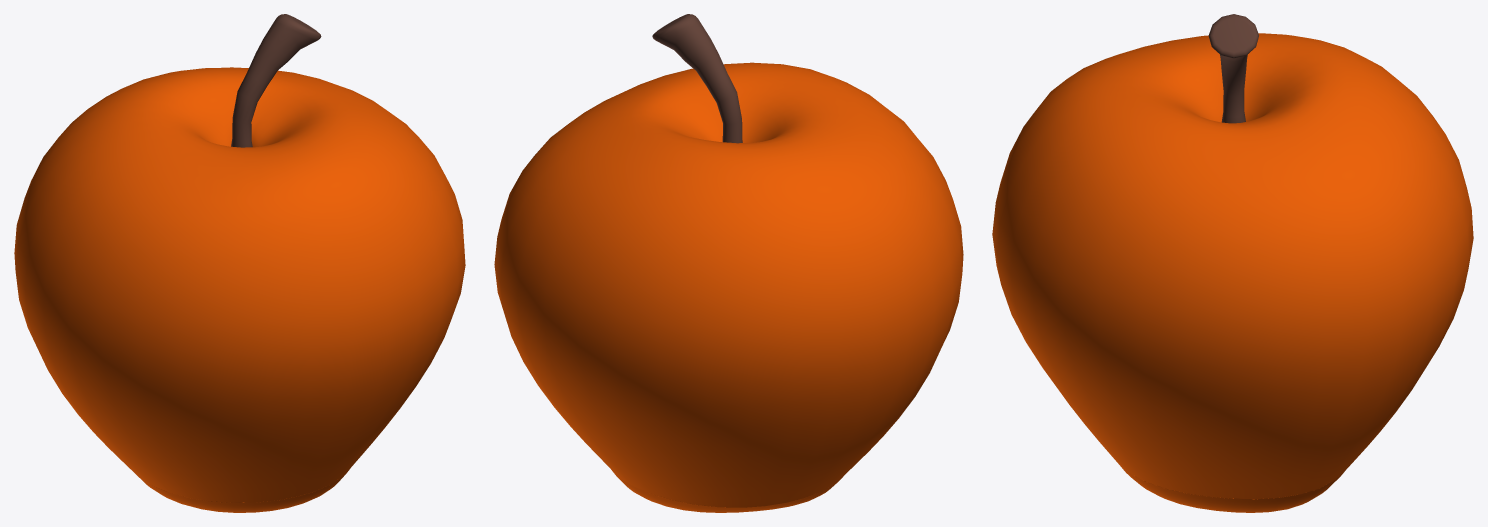
Rendered from manzana.fbx.
3 renders of one model, left to right at view 1: azimuth 30°, elevation 25°; view 2: azimuth 150°, elevation 25°; view 3: azimuth 270°, elevation 25°, orthographic. The views are drawn at different scales.
Visible parts, largest first — view 1: Esfera, Cilindro; view 2: Esfera, Cilindro; view 3: Esfera, Cilindro.
Boxes of the visible parts, box(x1,y1,x2,y2) form: Esfera: box(14, 67, 465, 512); Cilindro: box(231, 14, 321, 147); Esfera: box(494, 62, 963, 512); Cilindro: box(652, 14, 742, 143); Esfera: box(992, 33, 1473, 512); Cilindro: box(1208, 14, 1258, 123).
Size of the model in its own units: 461 by 513 by 454.
